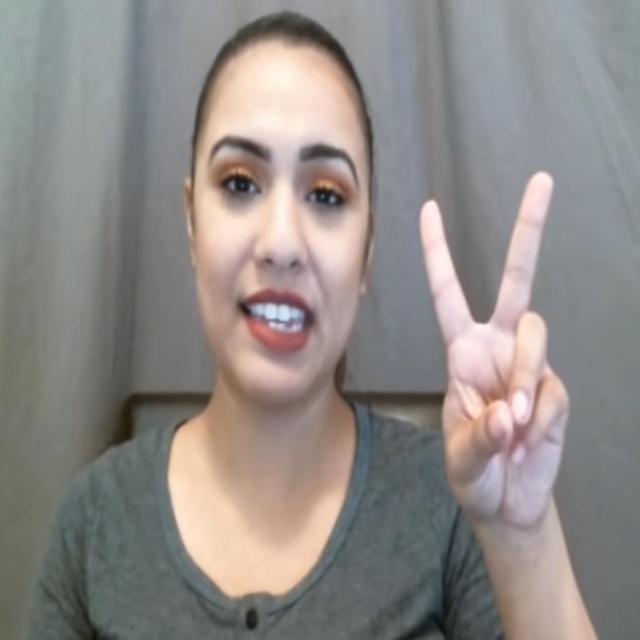V: (413, 164, 575, 534)
